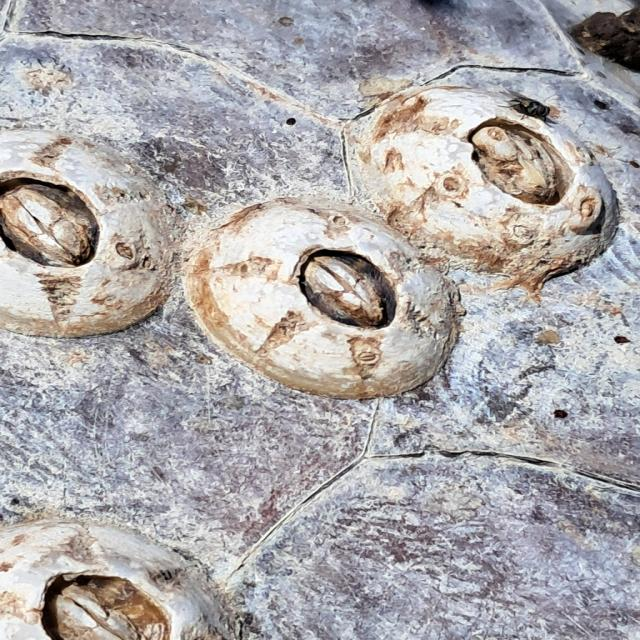barnacles: (191, 194, 464, 404), (375, 64, 626, 288), (0, 128, 178, 337), (4, 490, 230, 640)
